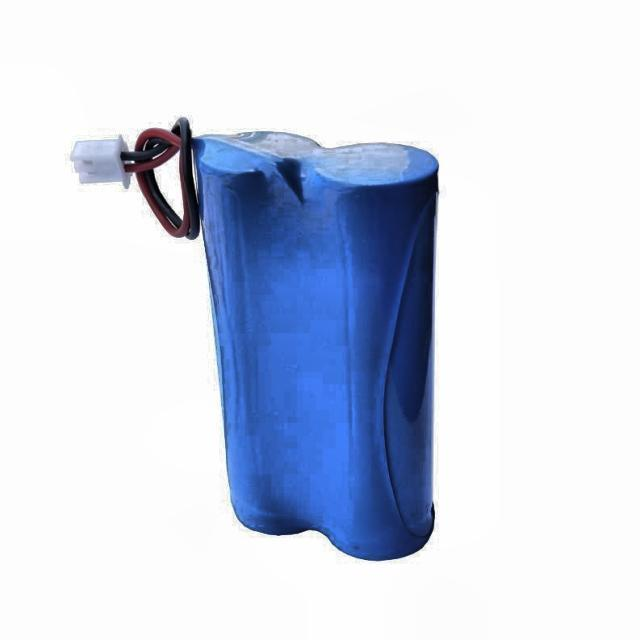battery: (71, 118, 438, 559)
